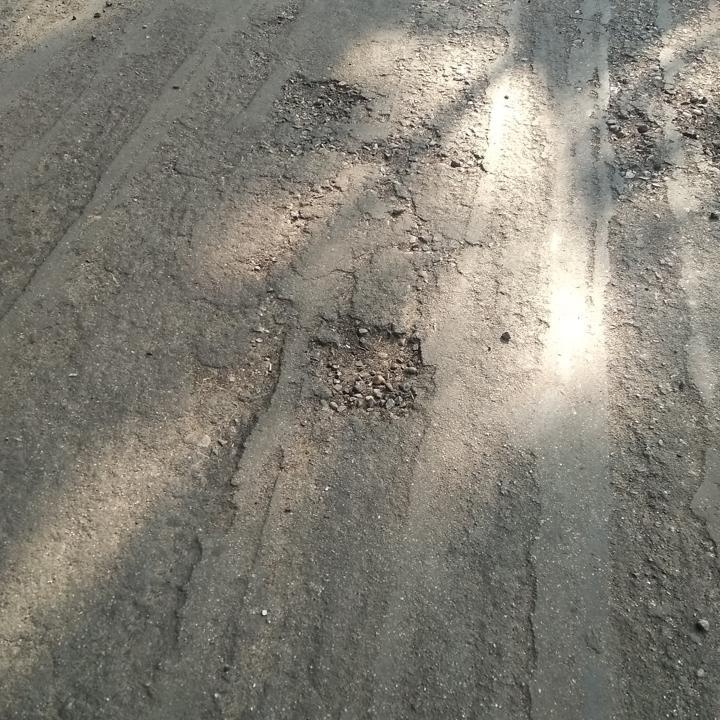pothole: (301, 311, 436, 420), (271, 71, 373, 132)
